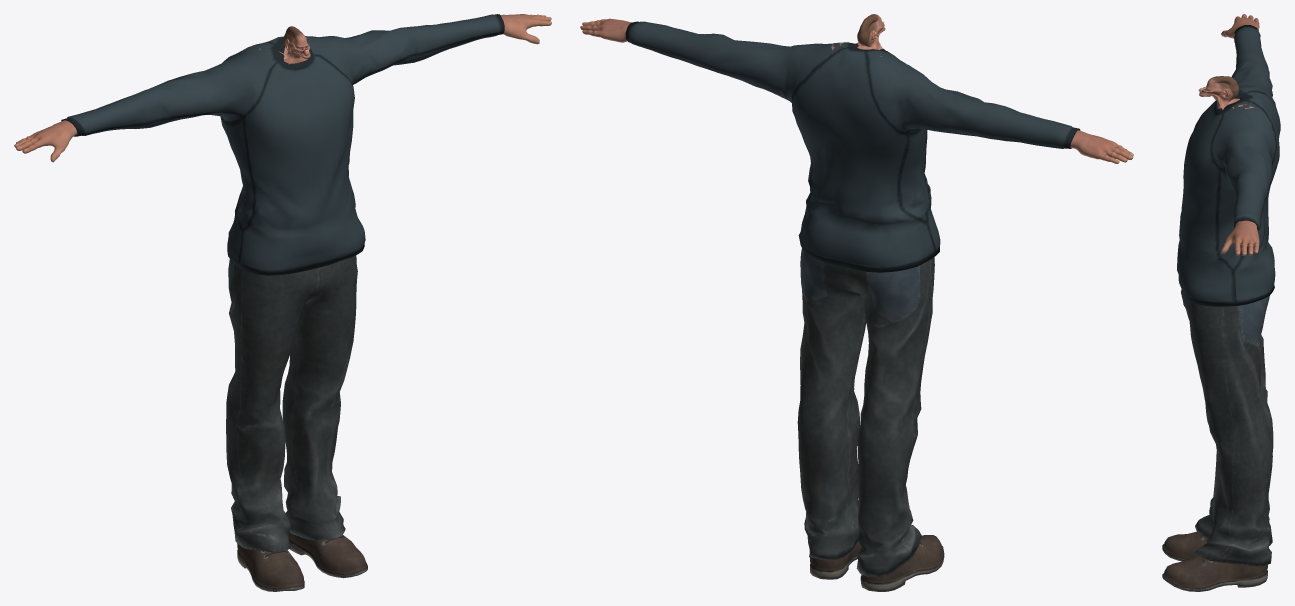
Rendered from Self Male.obj.
3 views of the same model, side by side, from view 1: azimuth 30°, elevation 25°; view 2: azimuth 150°, elevation 25°; view 3: azimuth 270°, elevation 25° (orthographic). The views are drawn at different scales.
Parts seen in each view (by area): view 1: Tops, Bottoms, Shoes, Body; view 2: Tops, Bottoms, Body, Shoes; view 3: Tops, Bottoms, Shoes, Body.
Part boxes in pixels (x1,y1,x2,y2): Tops: [61, 14, 504, 275]; Bottoms: [226, 255, 357, 551]; Shoes: [237, 532, 367, 591]; Body: [14, 14, 551, 162]; Tops: [625, 21, 1080, 272]; Bottoms: [797, 248, 934, 577]; Body: [580, 14, 1133, 163]; Shoes: [809, 535, 944, 591]; Tops: [1177, 25, 1280, 306]; Bottoms: [1181, 289, 1273, 566]; Shoes: [1162, 531, 1267, 591]; Body: [1198, 14, 1259, 255].
Size of the model in its own units: 175 by 168 by 36.6.
Materials: 1 (1 with a texture image).
